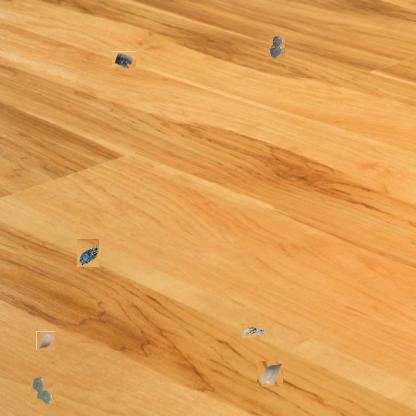dirty: (257, 361, 283, 387), (77, 239, 99, 267), (112, 51, 136, 70), (36, 331, 55, 350), (241, 324, 265, 338)
liquid: (31, 376, 53, 404), (269, 36, 285, 61)
